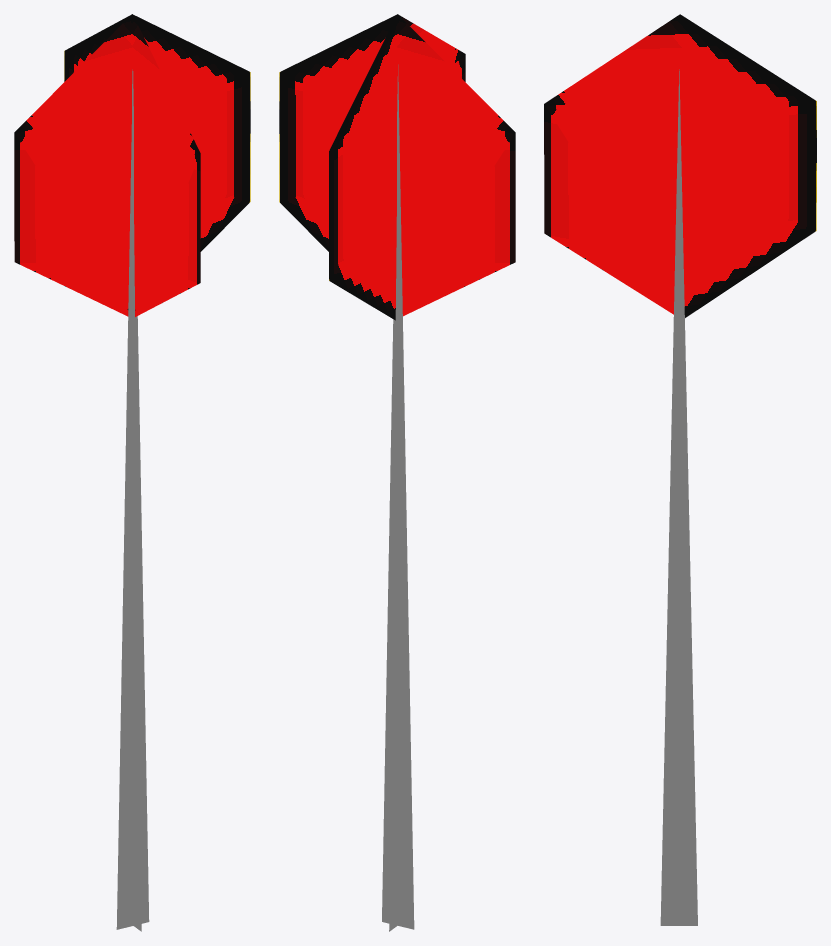
Rendered from stopsign.glb.
3 renders of one model, left to right at view 1: azimuth 30°, elevation 25°; view 2: azimuth 150°, elevation 25°; view 3: azimuth 270°, elevation 25°, orthographic.
Visible parts, largest first — view 1: stopsign; view 2: stopsign; view 3: stopsign.
Boxes of the visible parts, <box> form: stopsign: <box>14,14,250,931</box>; stopsign: <box>279,14,515,931</box>; stopsign: <box>544,14,816,925</box>.
Bounding box in the file's own units: 0.7682 × 2.83 × 0.7682.
Materials: 1 (1 with a texture image).
